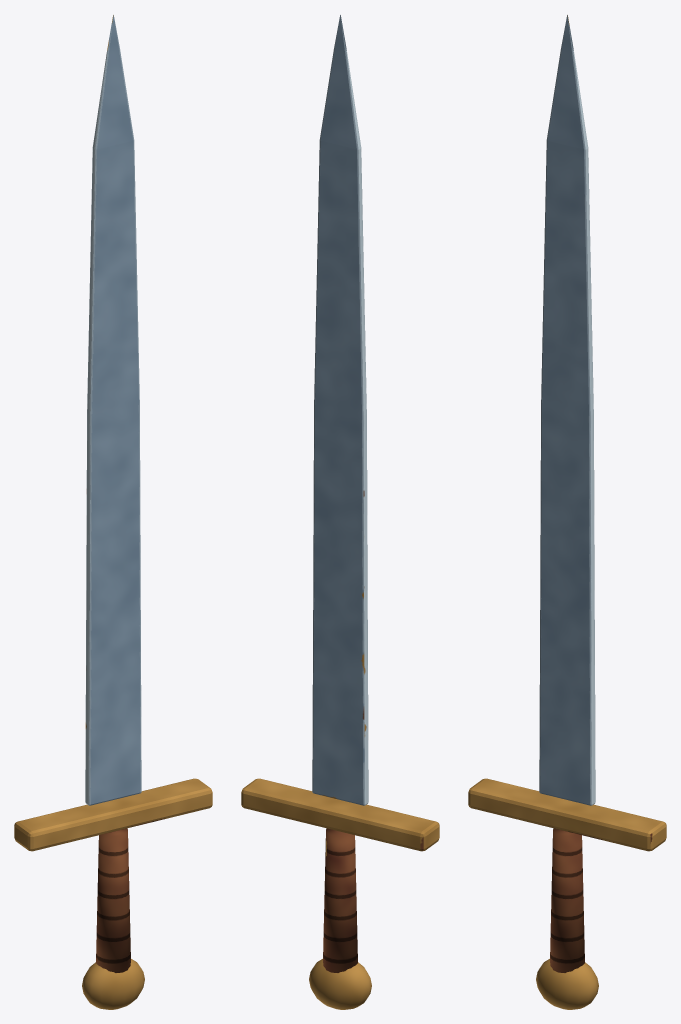
Rendered from iron_sword.glb.
3 views of the same model, side by side, from view 1: azimuth 30°, elevation 25°; view 2: azimuth 150°, elevation 25°; view 3: azimuth 330°, elevation 25° (orthographic).
Visible parts, largest first — view 1: Sword_Blade, Sword_Guard, Sword_Grip, Sword_Pommel; view 2: Sword_Blade, Sword_Guard, Sword_Grip, Sword_Pommel; view 3: Sword_Blade, Sword_Guard, Sword_Grip, Sword_Pommel.
Boxes of the visible parts, <box> form: Sword_Blade: <box>85,15,141,805</box>; Sword_Guard: <box>14,778,212,851</box>; Sword_Grip: <box>96,828,130,972</box>; Sword_Pommel: <box>82,959,144,1009</box>; Sword_Blade: <box>312,15,368,805</box>; Sword_Guard: <box>241,778,439,851</box>; Sword_Grip: <box>323,828,357,972</box>; Sword_Pommel: <box>309,959,371,1009</box>; Sword_Blade: <box>539,15,595,805</box>; Sword_Guard: <box>468,778,666,851</box>; Sword_Grip: <box>550,828,584,972</box>; Sword_Pommel: <box>536,959,598,1009</box>.
Bounding box in the file's own units: 0.19 × 0.9773 × 0.0432.
1 material, 1 textured.
